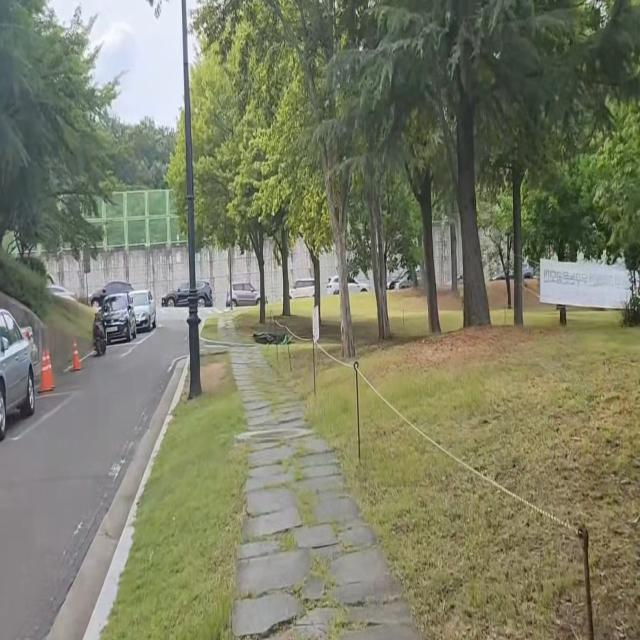obstacle: (0, 295, 48, 433), (92, 284, 164, 354)
road: (0, 323, 197, 640)
sidewalk: (216, 318, 436, 640)
